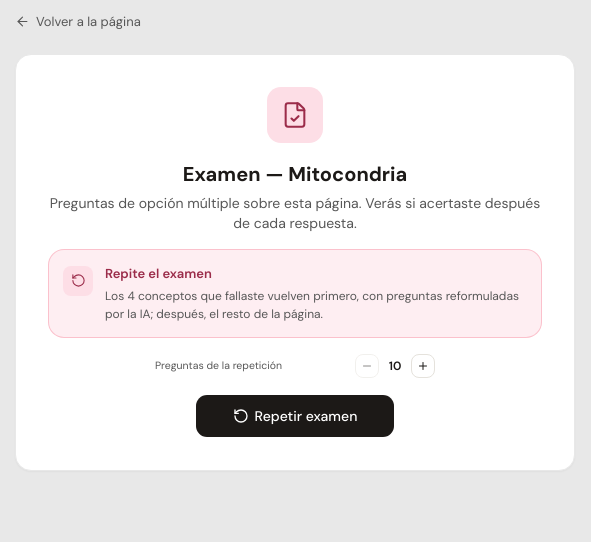
Scenario: ExamStart › explains calmly when the daily limit is reached or the AI cannot reformulate
The width and height of the screenshot is (591, 542).
Click the button with test id "retake-exam-button" at point(295, 416), box [195,394,395,438]
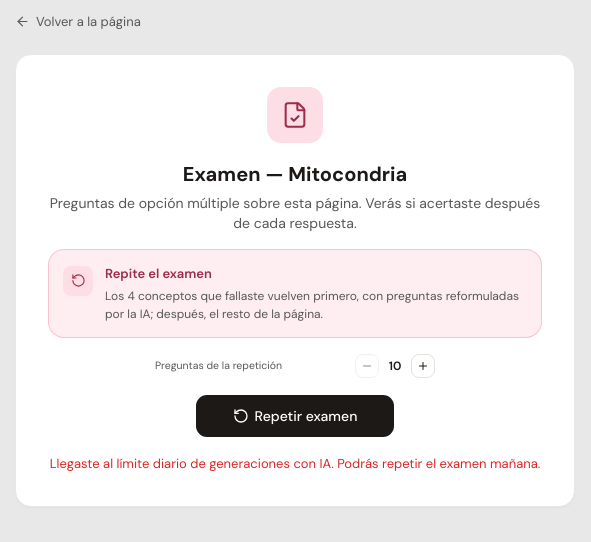
Result: the message shows "límite diario" at [50,455,540,472]
Click the button with test id "retake-exam-button" at point(295, 416), box [195,394,395,438]
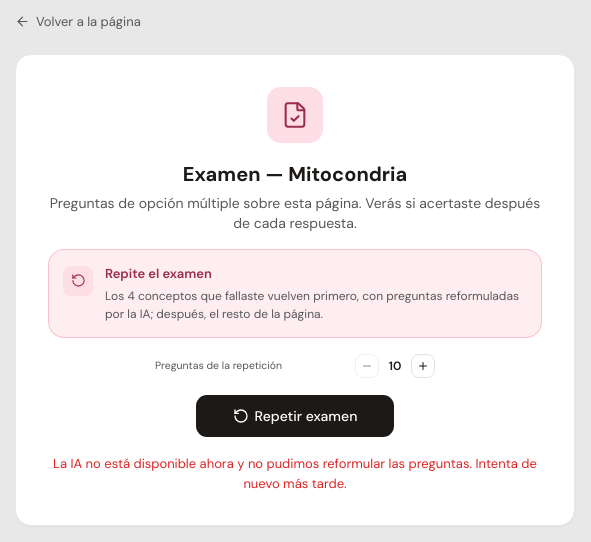
Result: the message shows "Intenta de nuevo más tarde" at [53,455,537,492]
